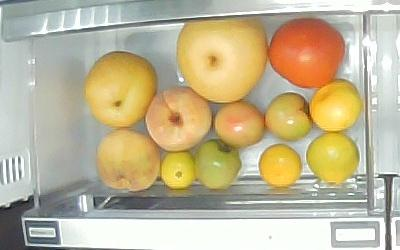peach: (145, 87, 213, 149), (97, 129, 161, 191)
pear: (175, 17, 268, 103), (84, 51, 158, 130)
tangerine: (306, 132, 360, 182), (310, 80, 360, 132), (259, 144, 302, 188), (159, 151, 194, 190)
tomato: (268, 19, 346, 89), (214, 100, 264, 150), (193, 140, 242, 190), (264, 92, 312, 141)
